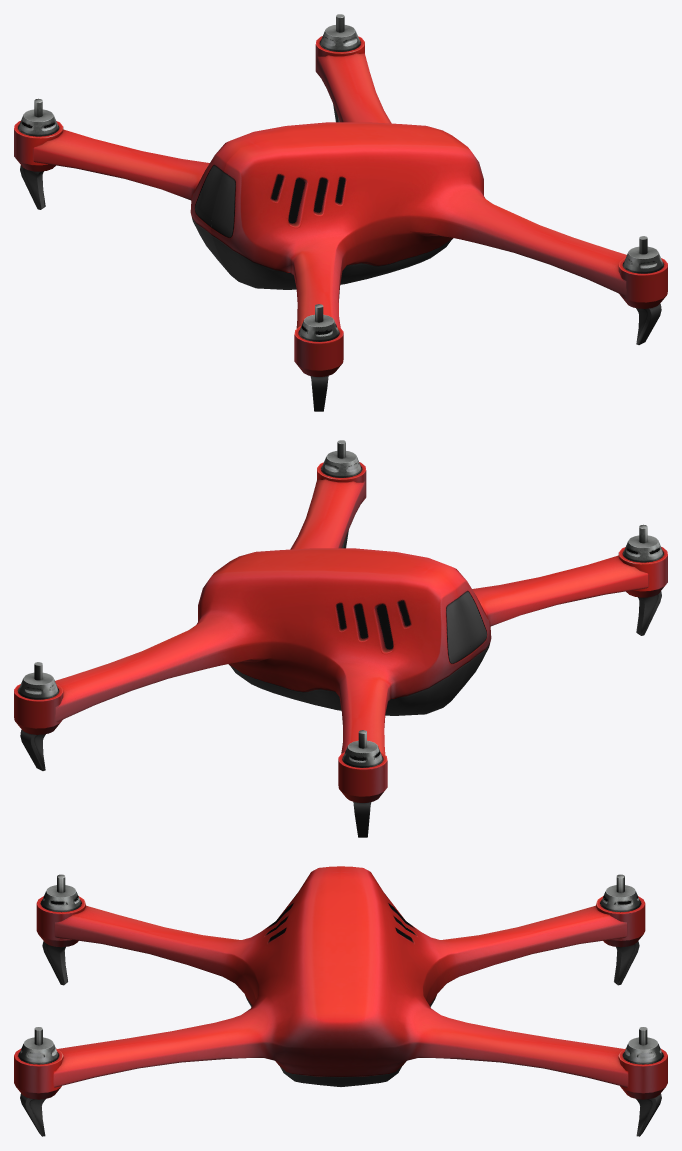
File: x3_red.dae
3 views of the same model, one above another, from view 1: azimuth 30°, elevation 25°; view 2: azimuth 150°, elevation 25°; view 3: azimuth 270°, elevation 25° (orthographic).
Parts seen in each view (by area): view 1: X3; view 2: X3; view 3: X3.
Boxes of the visible parts, bbox=[...] form: X3: bbox=[14, 14, 667, 411]; X3: bbox=[14, 440, 667, 837]; X3: bbox=[14, 866, 667, 1136].
Size of the model in its own units: 0.2995 by 0.4778 by 0.1188.
1 material, 1 textured.
